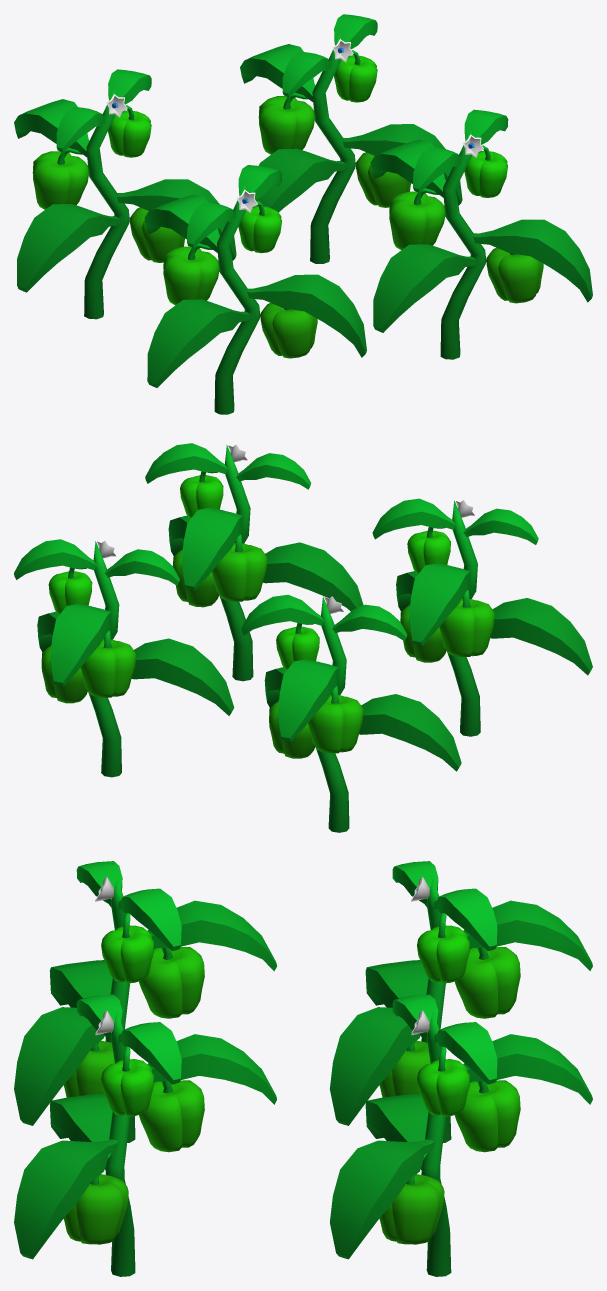
The model's file is Farm_Crop_Capsicum_Step_02.fbx.
3 views of the same model, one above another, from view 1: azimuth 30°, elevation 25°; view 2: azimuth 150°, elevation 25°; view 3: azimuth 270°, elevation 25° (orthographic). The views are drawn at different scales.
Visible parts, largest first — view 1: Farm_Crop_Capsicum_Step_02; view 2: Farm_Crop_Capsicum_Step_02; view 3: Farm_Crop_Capsicum_Step_02.
Part boxes in pixels (x1,y1,x2,y2): Farm_Crop_Capsicum_Step_02: [14, 14, 592, 414]; Farm_Crop_Capsicum_Step_02: [14, 443, 592, 832]; Farm_Crop_Capsicum_Step_02: [14, 861, 592, 1276].
Size of the model in its own units: 190 by 95.05 by 183.
